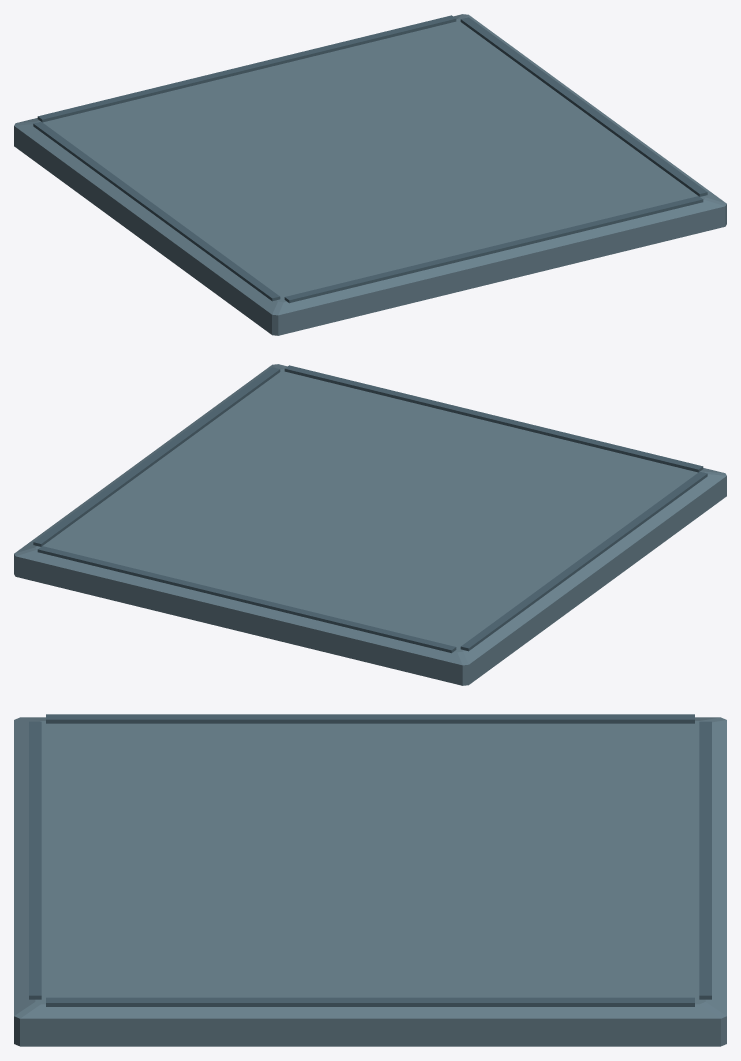
File: SM_ELY_MOD_001_Floor2m.glb
3 views of the same model, one above another, from view 1: azimuth 30°, elevation 25°; view 2: azimuth 150°, elevation 25°; view 3: azimuth 270°, elevation 25° (orthographic). The views are drawn at different scales.
Visible parts, largest first — view 1: SM_ELY_MOD_001_Floor2m; view 2: SM_ELY_MOD_001_Floor2m; view 3: SM_ELY_MOD_001_Floor2m.
Part boxes in pixels (<box>): SM_ELY_MOD_001_Floor2m: <box>14,14,726,335</box>; SM_ELY_MOD_001_Floor2m: <box>14,364,726,685</box>; SM_ELY_MOD_001_Floor2m: <box>14,714,726,1046</box>.
Bounding box in the file's own units: 2 × 0.132 × 2.
